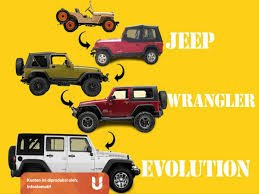mobil: (7, 131, 130, 181), (75, 89, 169, 138), (11, 51, 107, 96), (89, 25, 162, 66), (57, 6, 119, 30)
